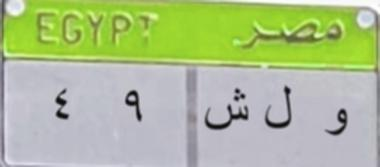4: (48, 84, 76, 125)
9: (116, 82, 149, 133)
laam: (261, 80, 298, 140)
sheen: (202, 84, 254, 142)
waw: (318, 98, 354, 146)
